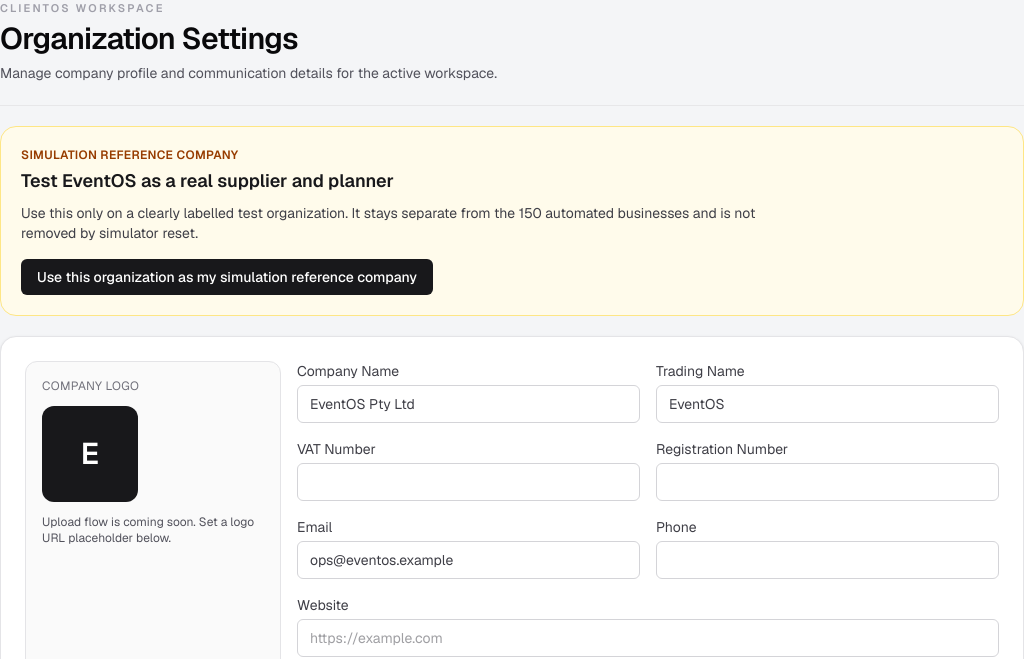
Test: OrganizationSettingsPage › tracks the operator-managed supplier and planner test journey
Click the button "Use this organization as my simulation reference company".
click(227, 276)  # box [21,258,433,294]
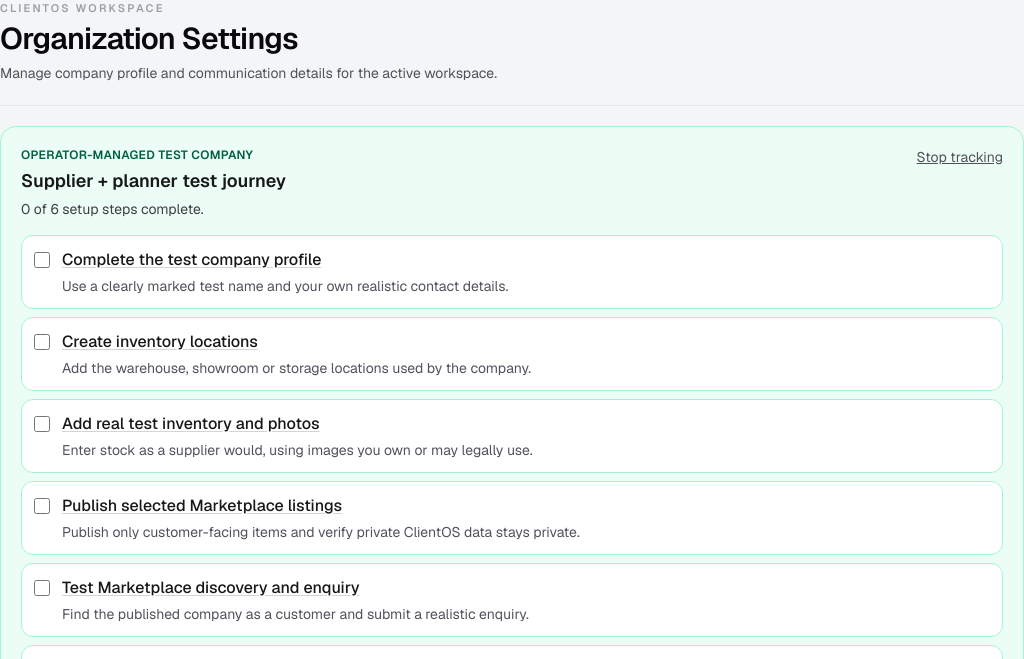
Now the heading "Supplier + planner test journey" is shown, box [21,166,286,194]
Click the checkbox named "Mark Complete the test company profile complete".
click(42, 260)  # box [34,252,50,268]
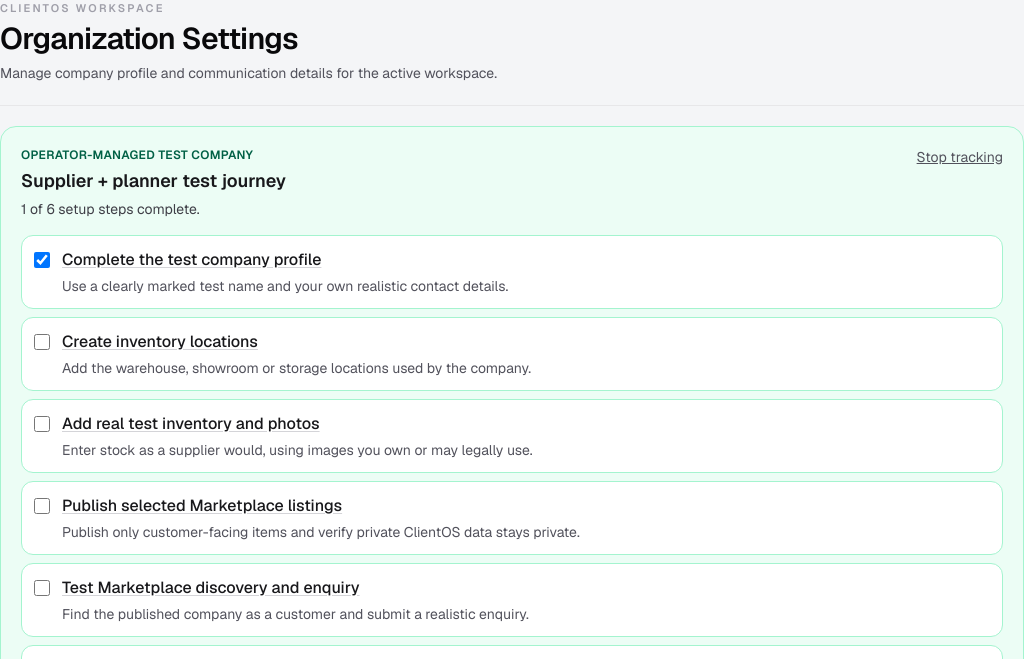
Now the text "1 of 6 setup steps complete." is shown, box [21,200,200,218]
